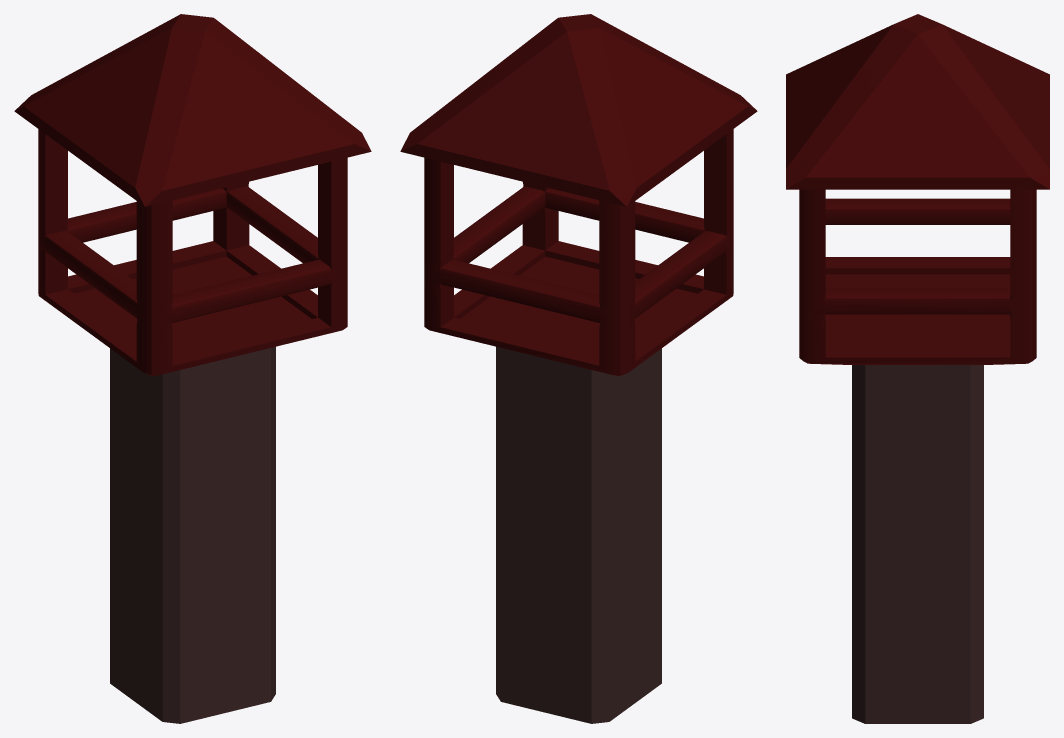
Rendered from Tower.DAE.
The picture shows the model from 3 angles, left to right: view 1: azimuth 30°, elevation 25°; view 2: azimuth 150°, elevation 25°; view 3: azimuth 270°, elevation 25°; orthographic projection.
Parts seen in each view (by area): view 1: Box001; view 2: Box001; view 3: Box001.
Boxes of the visible parts, x1=… form: Box001: x1=14, y1=14, x2=371, y2=723; Box001: x1=400, y1=14, x2=757, y2=723; Box001: x1=786, y1=14, x2=1049, y2=723.
Bounding box in the file's own units: 20 × 20 × 56.16.
